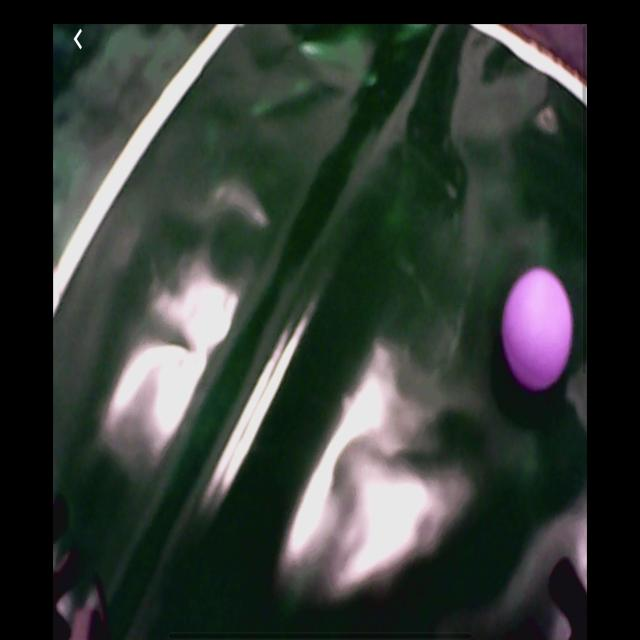ball: (504, 270, 579, 390)
